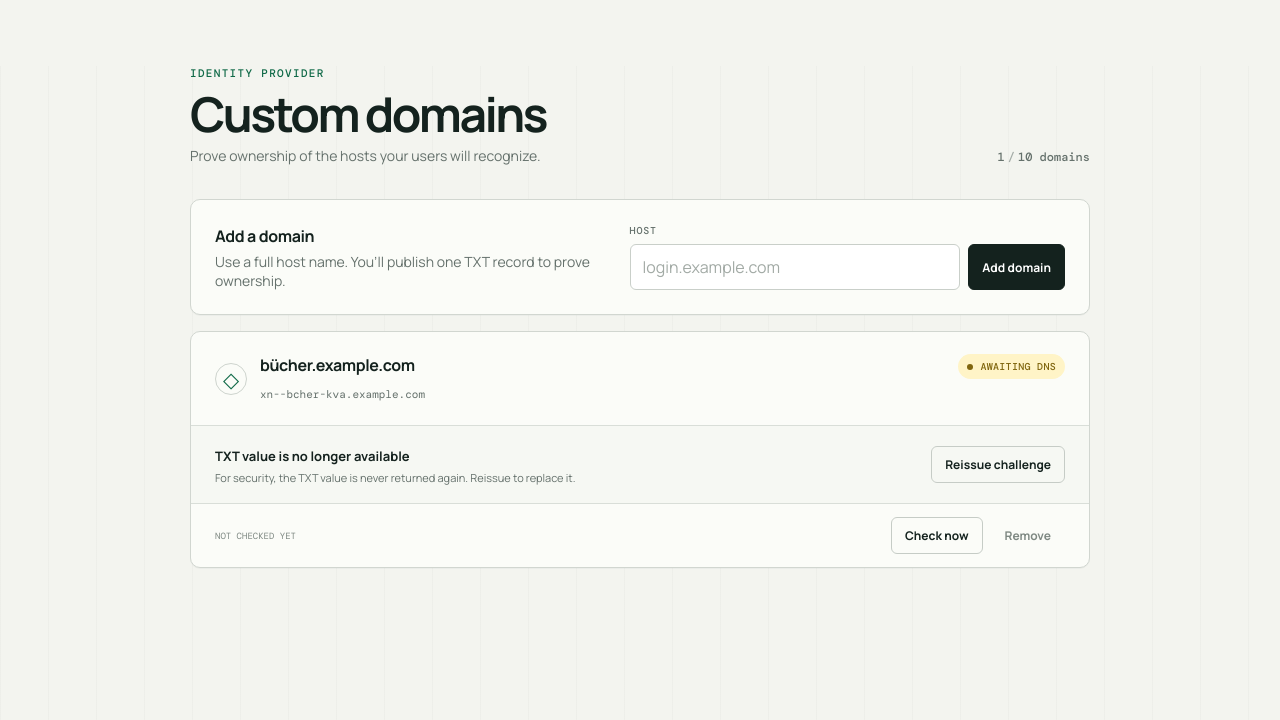
Test case: custom domains screen › requires confirmation before removal
Click the button named "Remove bücher.example.com" at x=1028, y=536, box left=990, top=517, right=1065, bottom=554
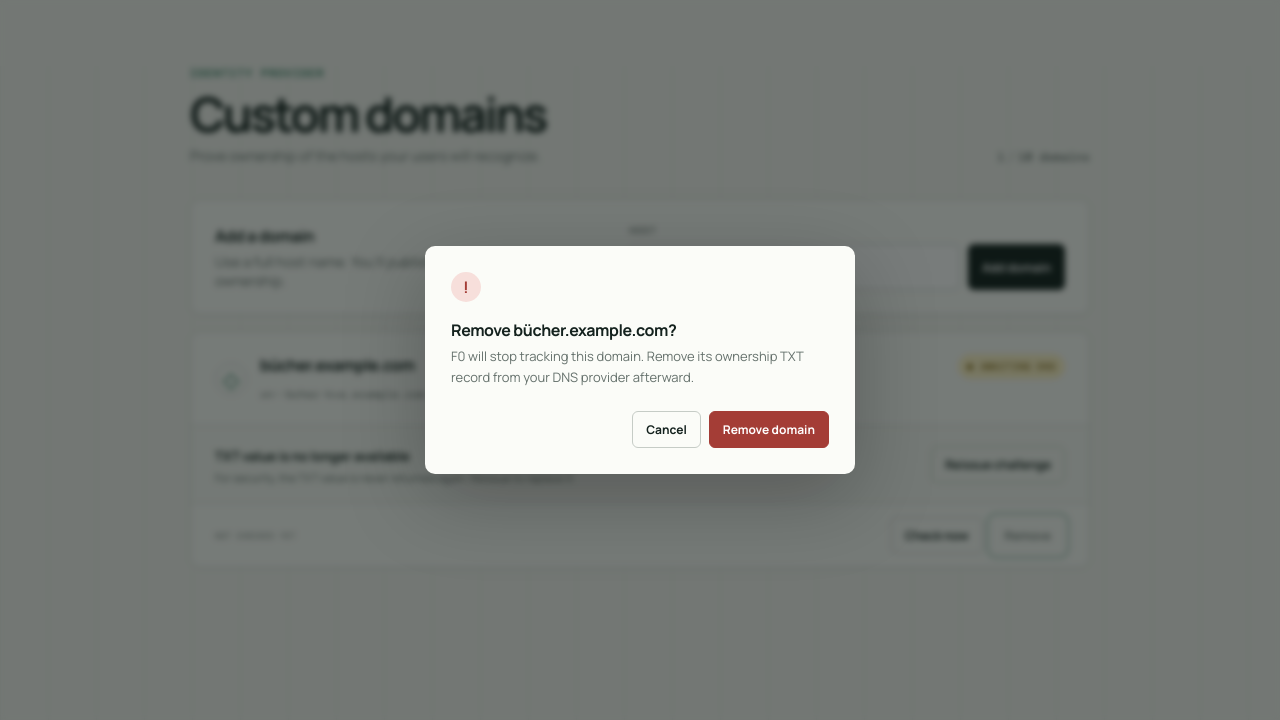
expect the dialog shows "Remove bücher.example.com?": met, box left=425, top=246, right=855, bottom=474
Click the button "Remove domain" at x=769, y=429, box left=709, top=411, right=829, bottom=448
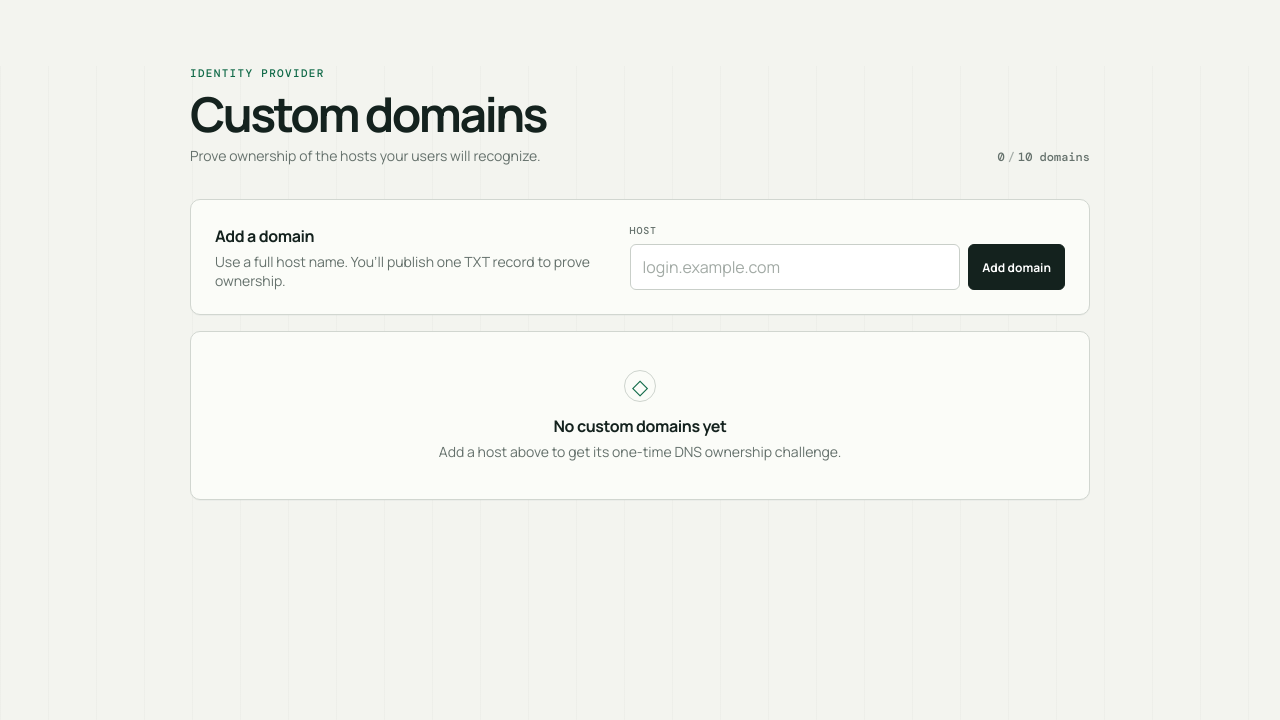
expect the dialog is gone: met
expect the heading "No custom domains yet" is shown: met, box left=554, top=415, right=726, bottom=437
